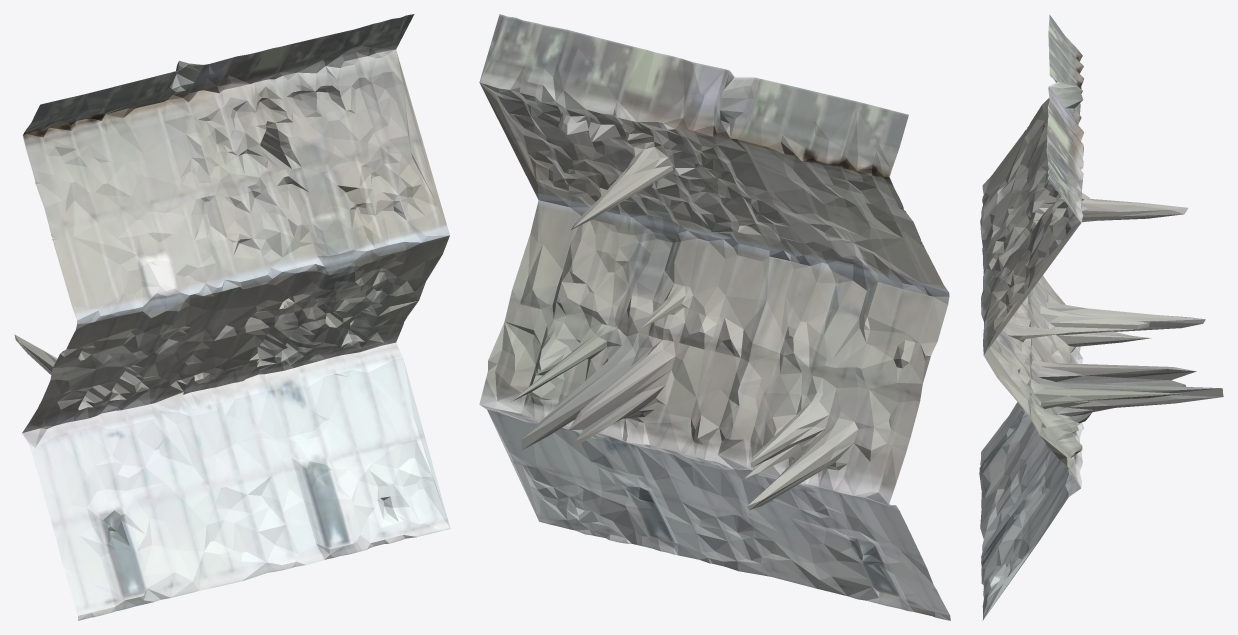
Rendered from map_40_100.obj.
The picture shows the model from 3 angles, left to right: view 1: azimuth 30°, elevation 25°; view 2: azimuth 150°, elevation 25°; view 3: azimuth 270°, elevation 25°; orthographic projection. The views are drawn at different scales.
Parts seen in each view (by area): view 1: grp1; view 2: grp1; view 3: grp1.
Part boxes in pixels (left/top/right/bottom): grp1: left=14, top=14, right=450, bottom=620; grp1: left=479, top=14, right=950, bottom=620; grp1: left=979, top=14, right=1223, bottom=620.
Bounding box in the file's own units: 8 × 10 × 5.01.
Materials: 1 (1 with a texture image).
